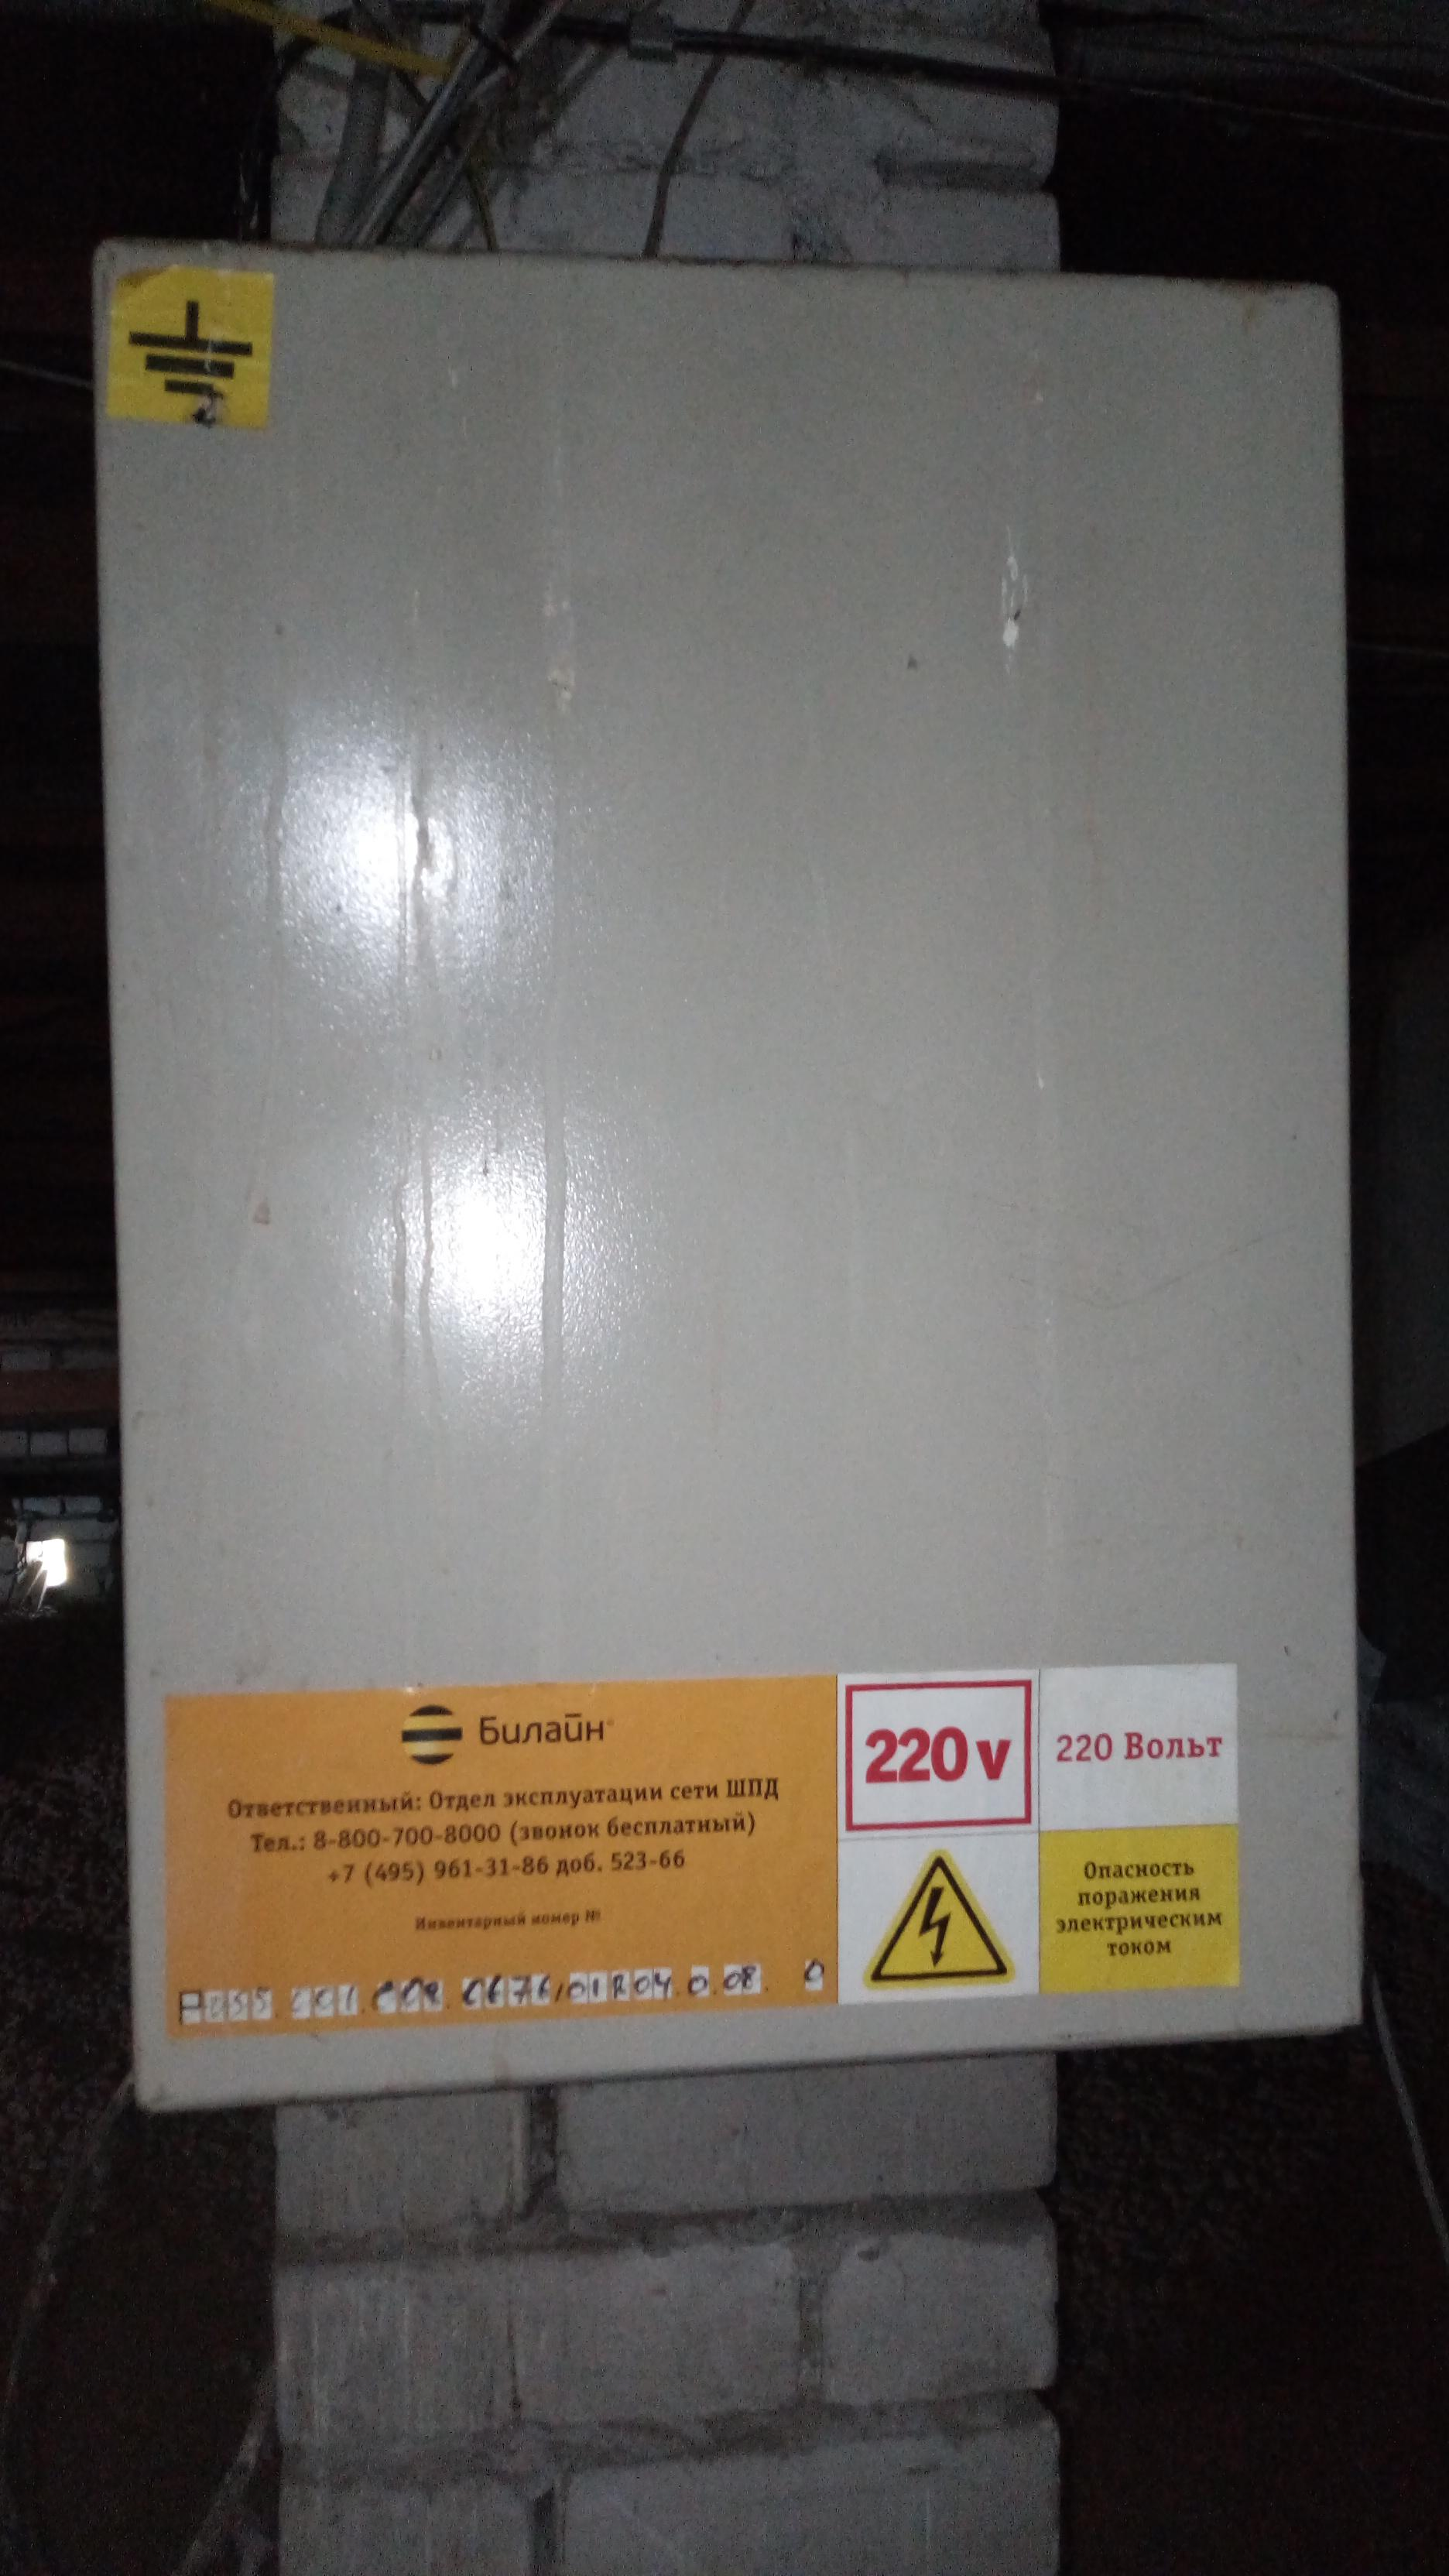sv-5: (76, 186, 1399, 2127)
